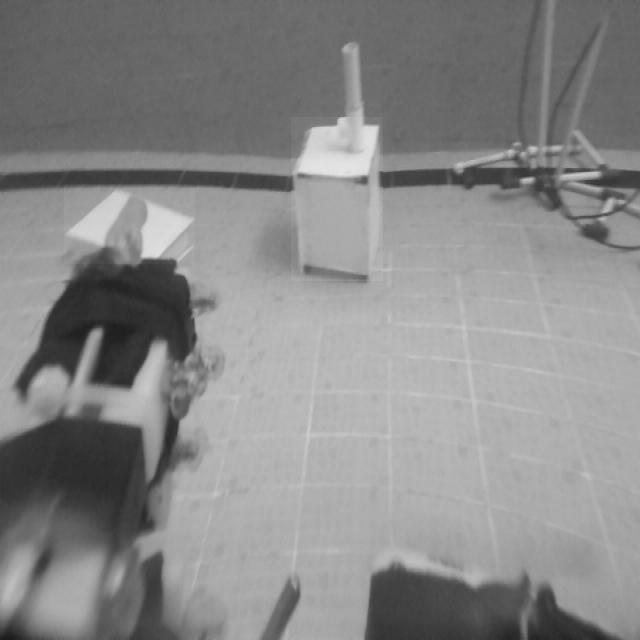Cube: (291, 118, 383, 282)
Cuboid: (64, 184, 195, 264)
